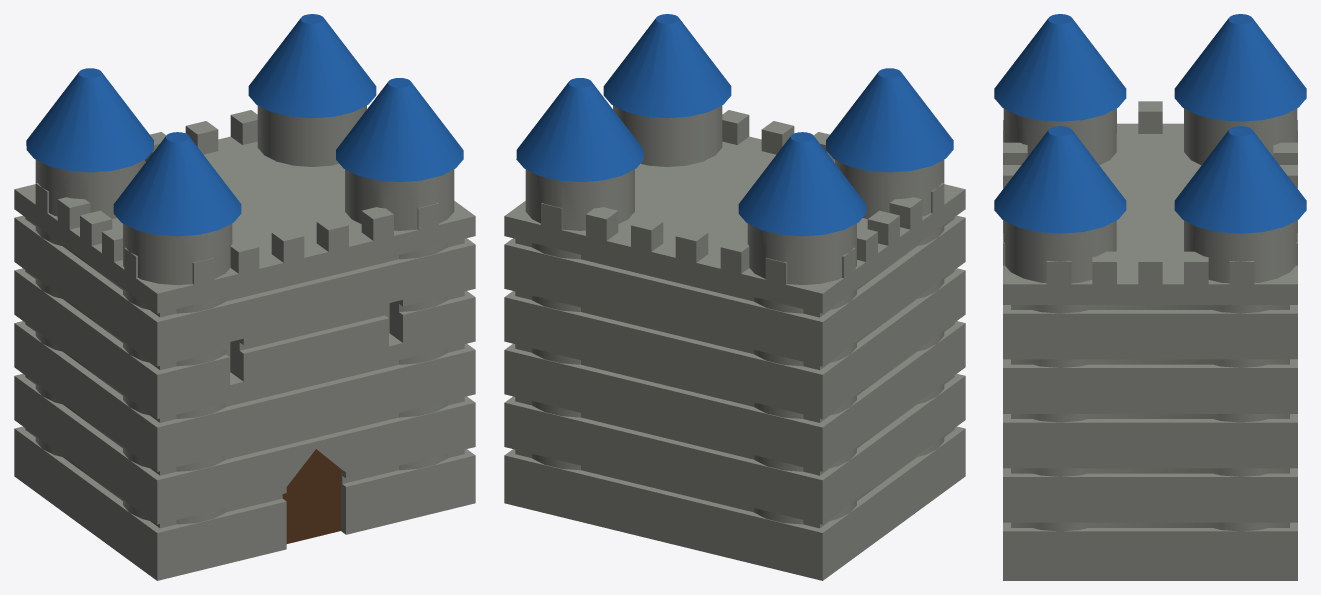
Rendered from burg_blau.glb.
3 renders of one model, left to right at view 1: azimuth 30°, elevation 25°; view 2: azimuth 150°, elevation 25°; view 3: azimuth 270°, elevation 25°, orthographic. The views are drawn at different scales.
Visible parts, largest first — view 1: burg_blau; view 2: burg_blau; view 3: burg_blau.
Boxes of the visible parts, <box> form: burg_blau: <box>14,14,475,580</box>; burg_blau: <box>504,14,965,580</box>; burg_blau: <box>994,14,1306,580</box>.
Size of the model in its own units: 14.6 by 17.18 by 11.43.
